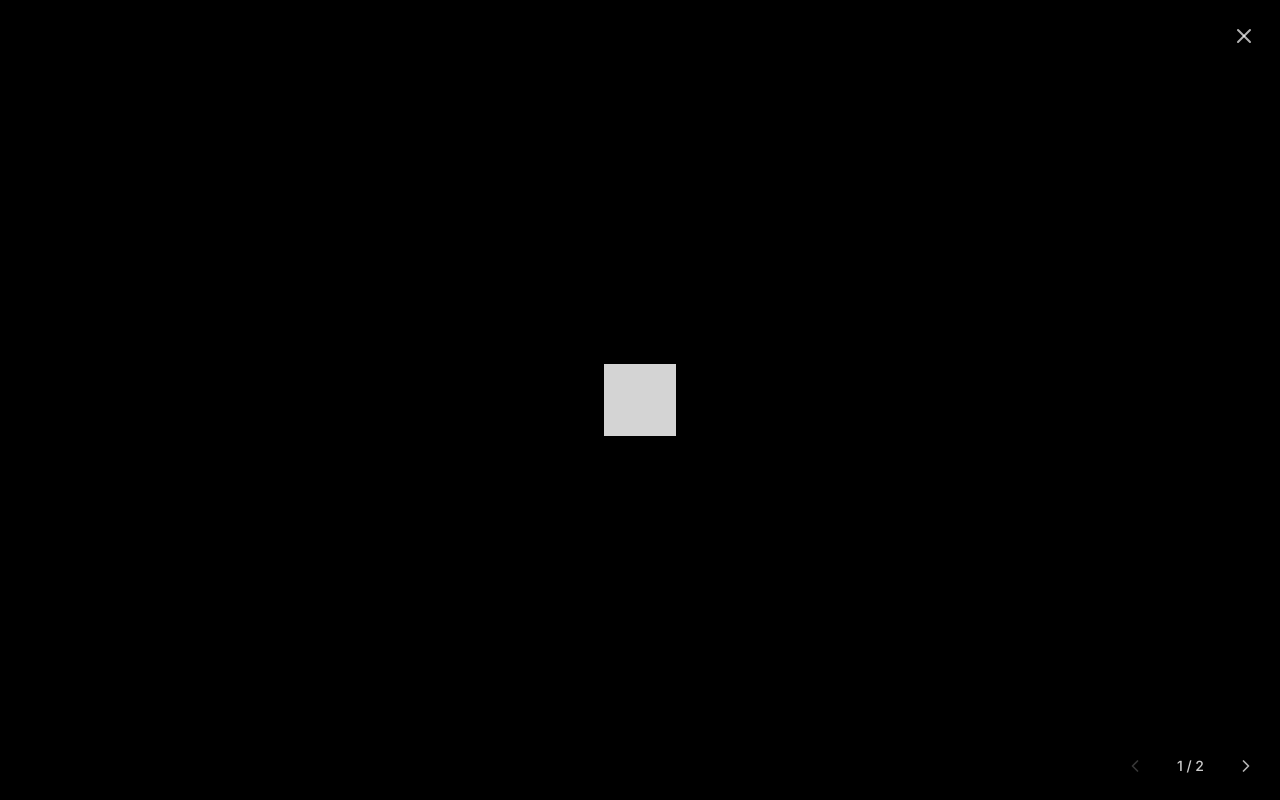
Test case: ScoreViewer — extended › handles touch swipe right to go prev
This screenshot has width=1280, height=800.
Press ArrowRight
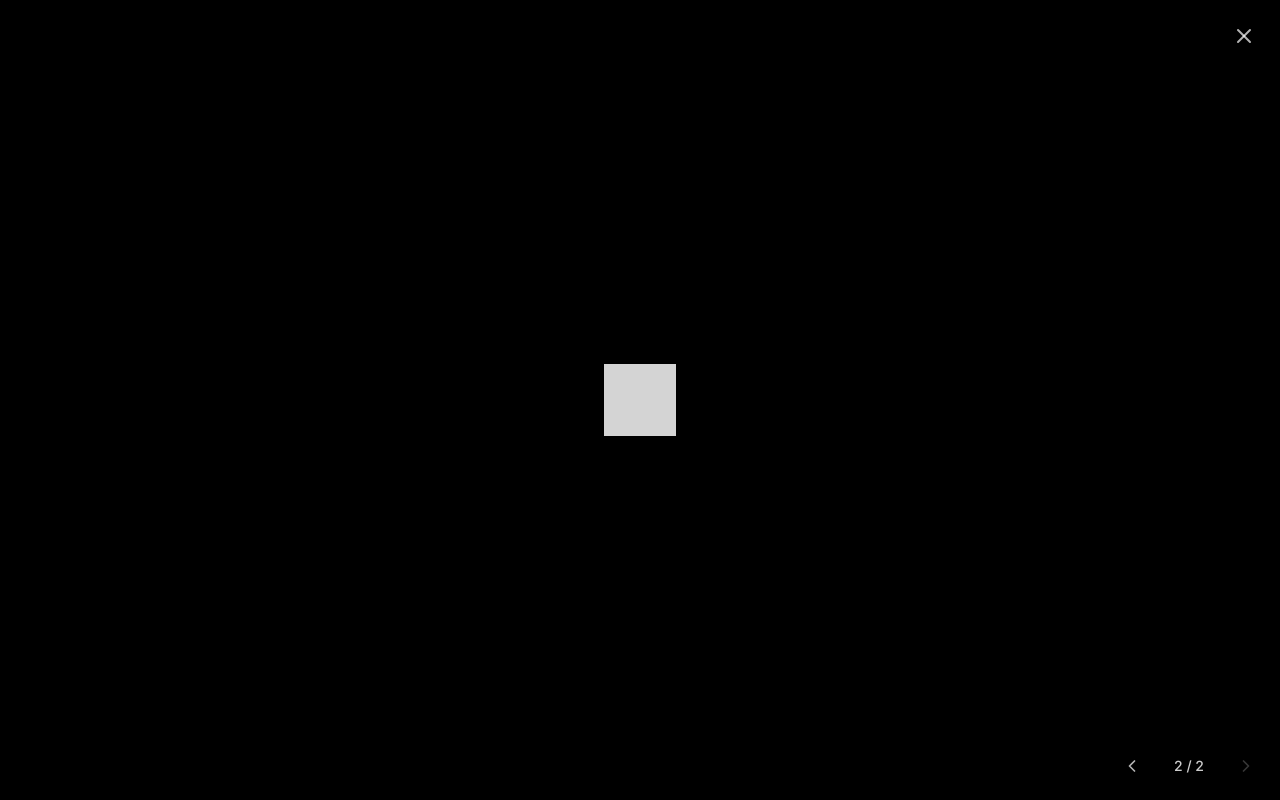
Press the mouse on the dialog at [640, 400], box [0, 0, 1279, 799]
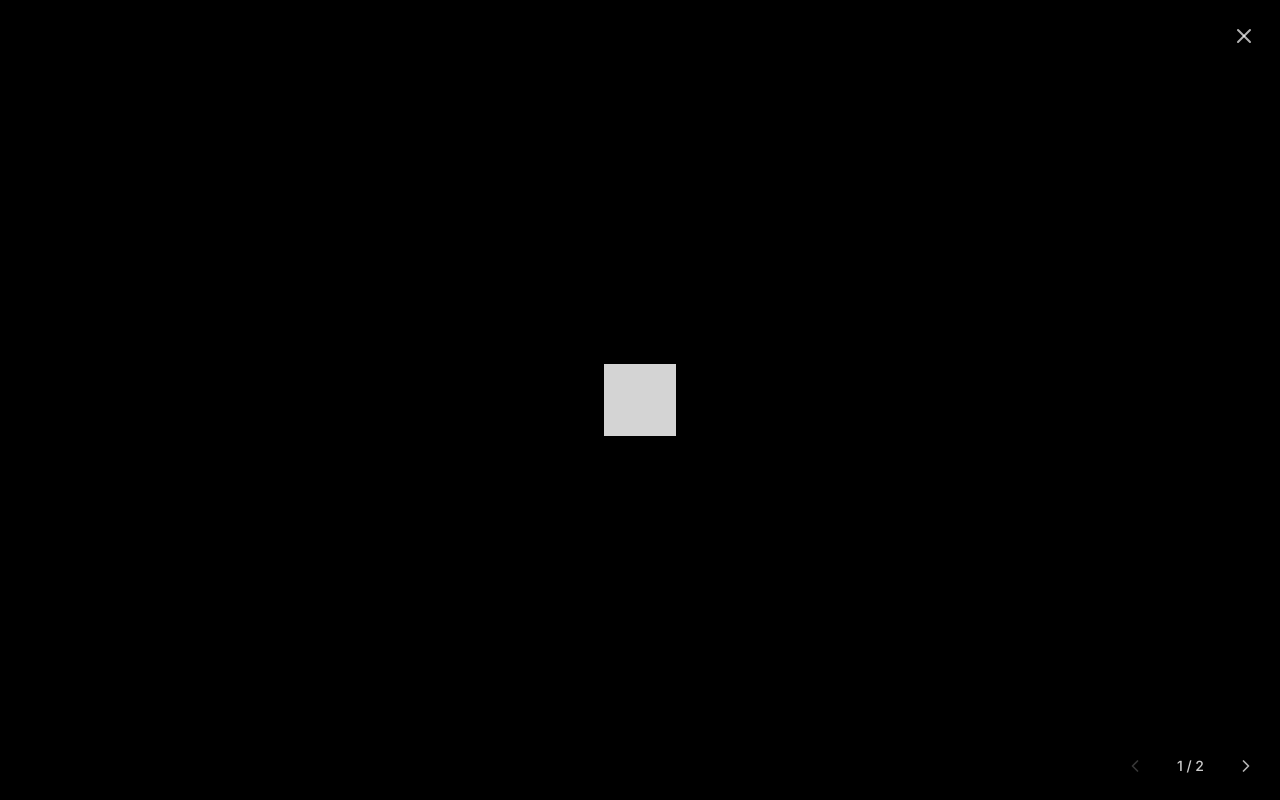
Check: the text "1 / 2" is shown, box [1165, 752, 1216, 780]
